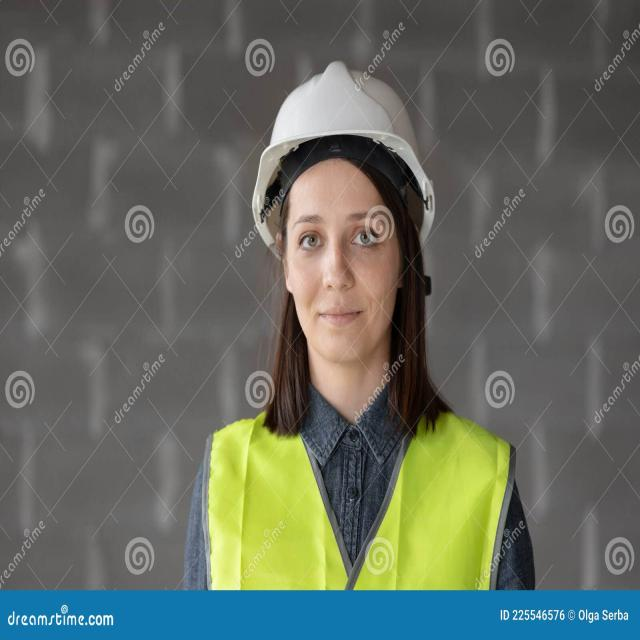helmet: (246, 58, 437, 256)
no-goggles: (283, 214, 397, 261)
vest: (205, 402, 520, 594)
